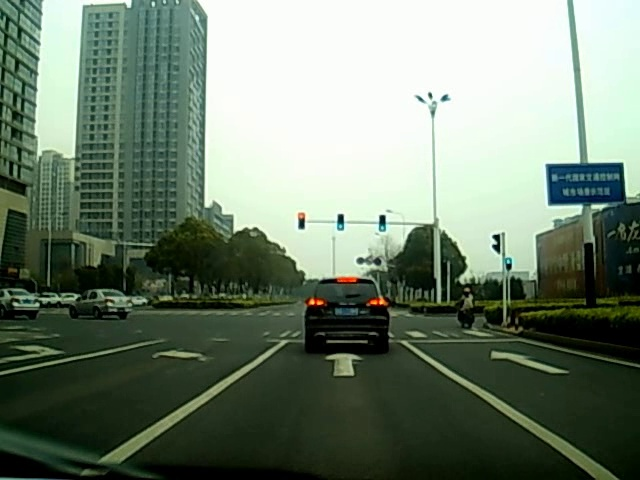Traffic_Light_go: (336, 213, 345, 231), (379, 216, 387, 234)
Traffic_Light_stop: (298, 212, 305, 228)
